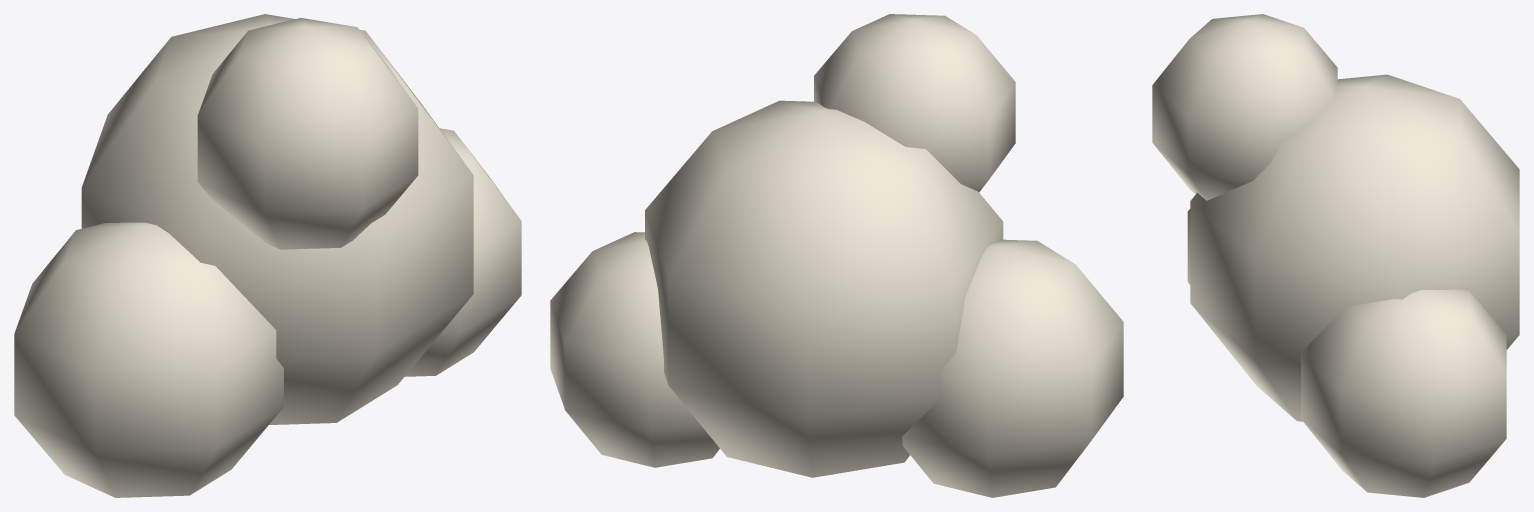
The model's file is fx_poof.fbx.
3 renders of one model, left to right at view 1: azimuth 30°, elevation 25°; view 2: azimuth 150°, elevation 25°; view 3: azimuth 270°, elevation 25°, orthographic. The views are drawn at different scales.
Parts seen in each view (by area): view 1: Prop; view 2: Prop; view 3: Prop.
Part boxes in pixels (x1,y1,x2,y2): Prop: [14, 14, 521, 497]; Prop: [550, 14, 1123, 497]; Prop: [1152, 14, 1519, 497].
Bounding box in the file's own units: 0.4647 × 0.3227 × 0.38.
